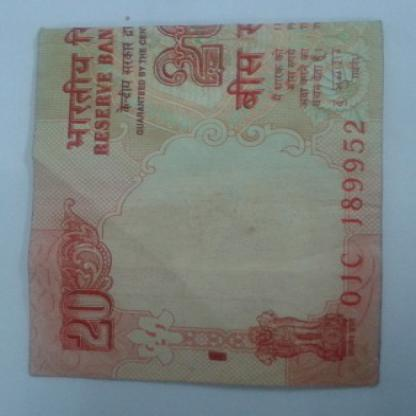Old20Front: (32, 29, 380, 385)
